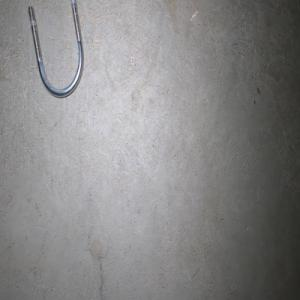ClampPart: (27, 0, 84, 99)
